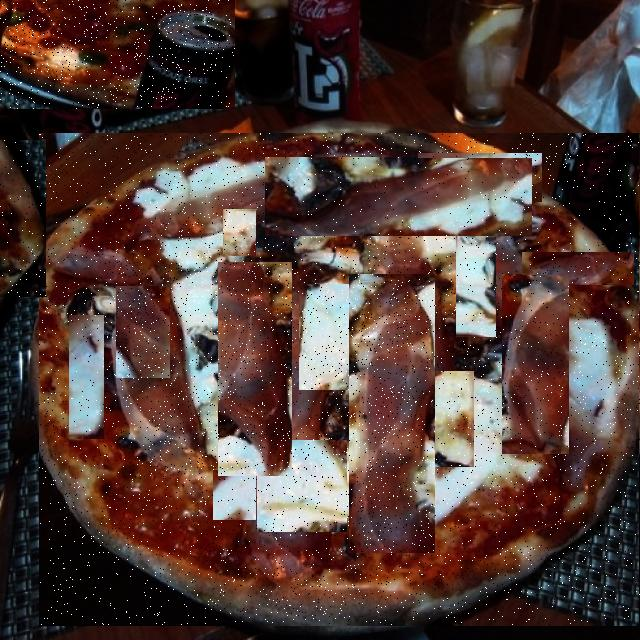Cheese: (257, 441, 347, 532), (149, 384, 218, 484), (418, 154, 542, 202), (299, 286, 354, 392), (422, 372, 474, 467), (69, 316, 104, 439), (456, 236, 496, 337), (213, 470, 256, 520), (224, 210, 258, 256), (283, 193, 316, 234)
Ham: (349, 275, 435, 553), (265, 158, 532, 236), (218, 263, 292, 476), (502, 276, 569, 456), (160, 209, 217, 317), (116, 287, 170, 378), (522, 253, 634, 285)
Pizza: (39, 134, 640, 625), (0, 0, 235, 109), (0, 140, 46, 297), (0, 64, 13, 114)
